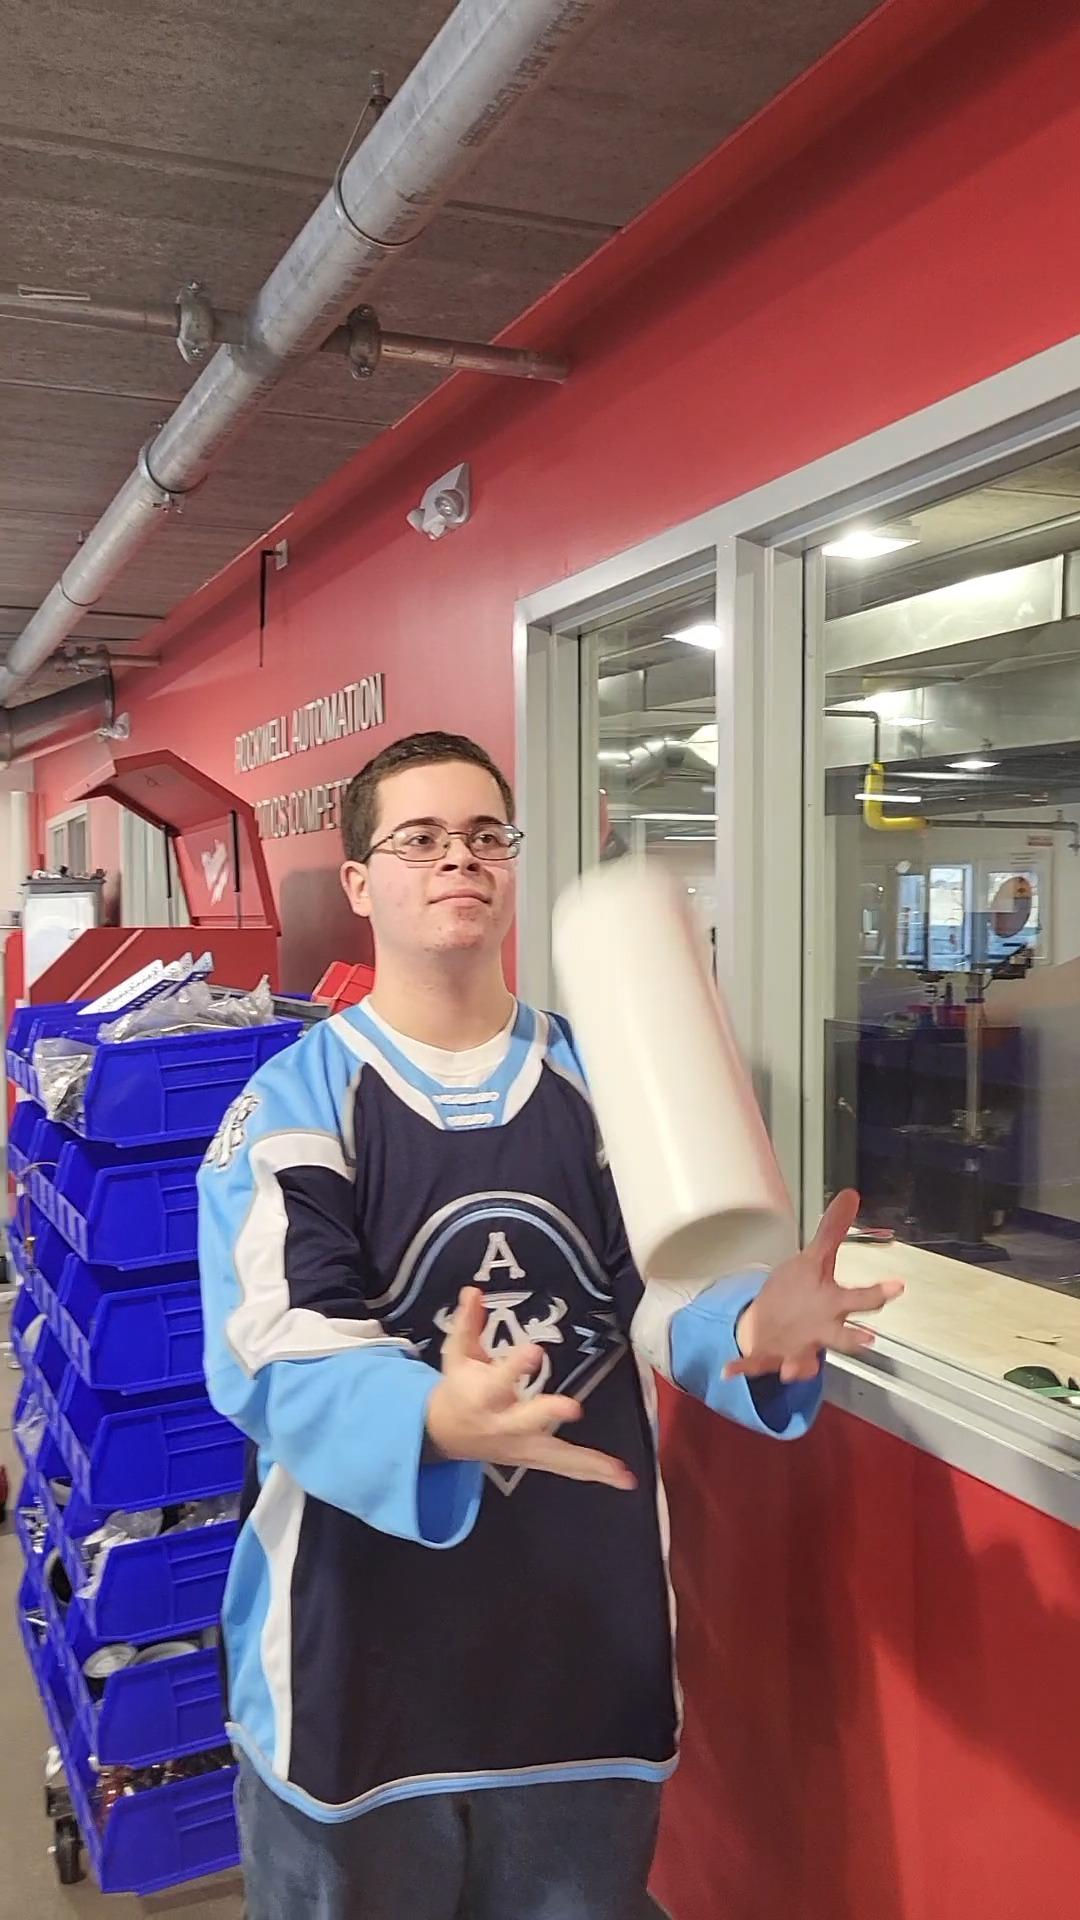coral: (543, 855, 803, 1300)
